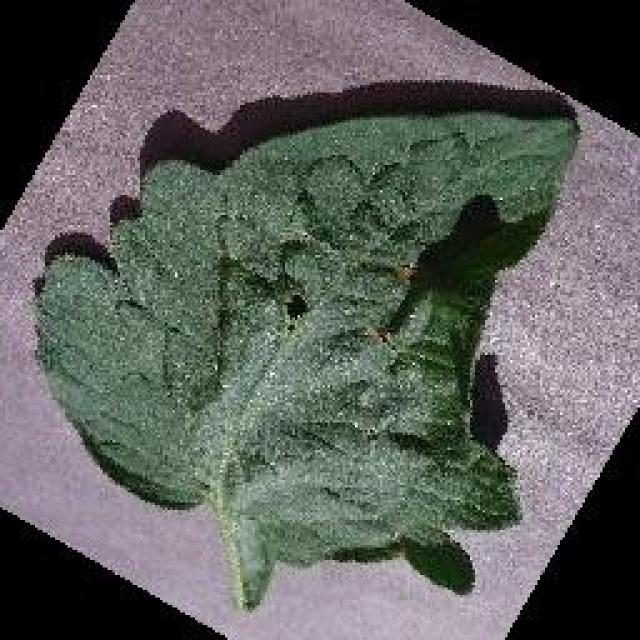Tomato___Target_Spot: (35, 110, 578, 608)
